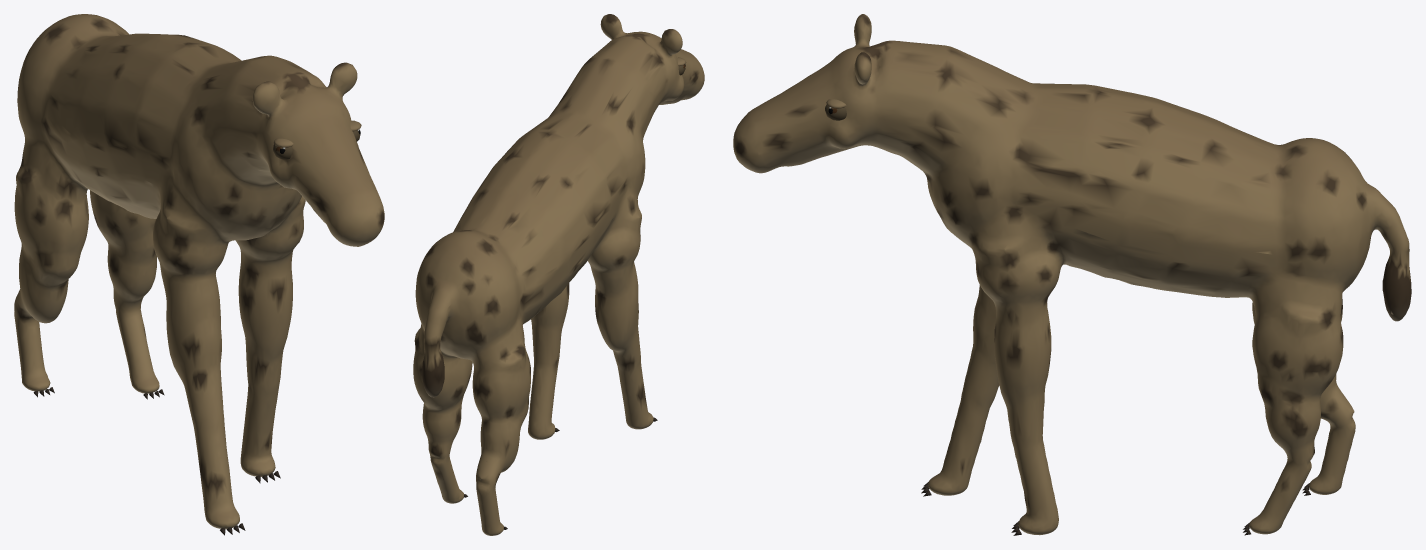
Rendered from DinocrocutaGigantea.fbx.
3 renders of one model, left to right at view 1: azimuth 30°, elevation 25°; view 2: azimuth 150°, elevation 25°; view 3: azimuth 270°, elevation 25°, orthographic. The views are drawn at different scales.
Visible parts, largest first — view 1: DinocrocutaGigantea; view 2: DinocrocutaGigantea; view 3: DinocrocutaGigantea.
Boxes of the visible parts, <box> form: DinocrocutaGigantea: <box>14,14,384,535</box>; DinocrocutaGigantea: <box>413,14,704,535</box>; DinocrocutaGigantea: <box>733,14,1411,535</box>.
Bounding box in the file's own units: 0.3855 × 1.26 × 1.62.
